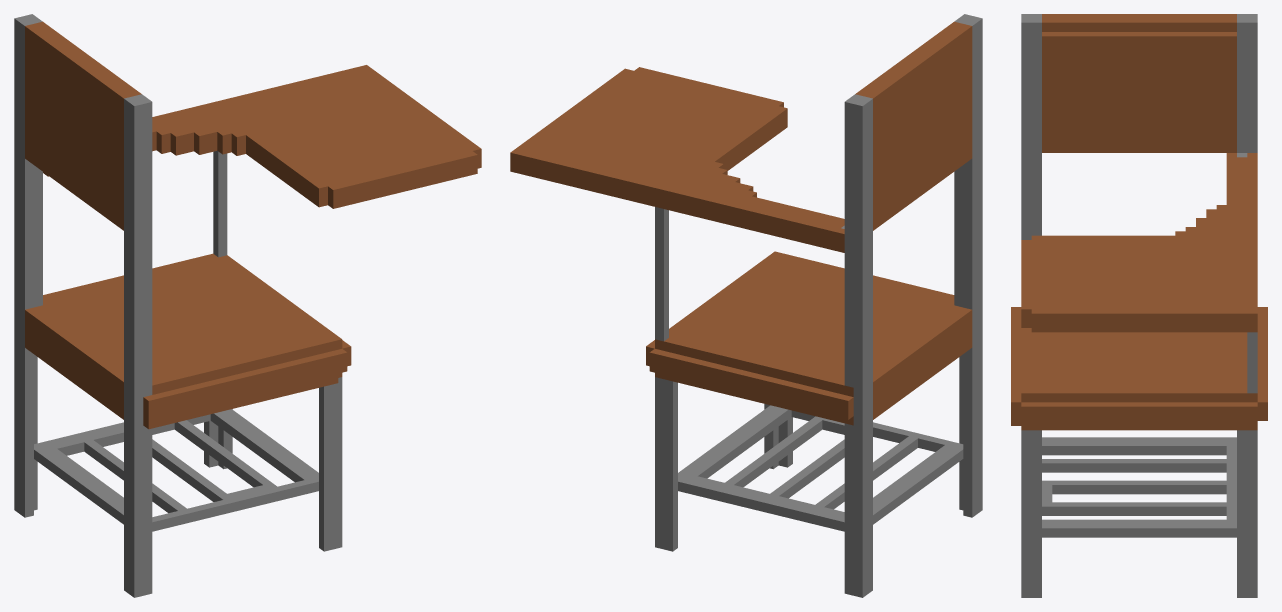
File: SchoolPack-75-Child seat.obj
3 renders of one model, left to right at view 1: azimuth 30°, elevation 25°; view 2: azimuth 150°, elevation 25°; view 3: azimuth 270°, elevation 25°, orthographic.
Visible parts, largest first — view 1: Child seat; view 2: Child seat; view 3: Child seat.
Part boxes in pixels (<box>): Child seat: <box>14,14,481,597</box>; Child seat: <box>510,14,982,597</box>; Child seat: <box>1011,14,1267,597</box>.
Size of the model in its own units: 3.9 by 5.2 by 2.5.
Materials: 1 (1 with a texture image).
